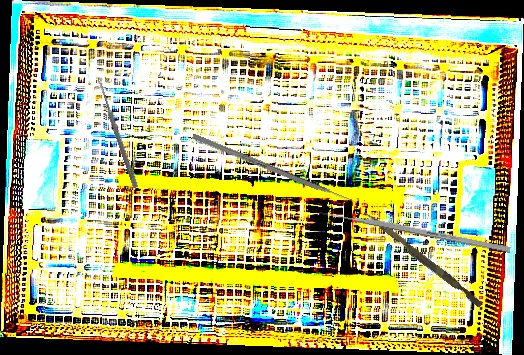Pusher: (191, 133, 366, 209), (359, 210, 486, 308), (314, 208, 511, 253)
Surgical Spoon: (95, 77, 140, 189)
